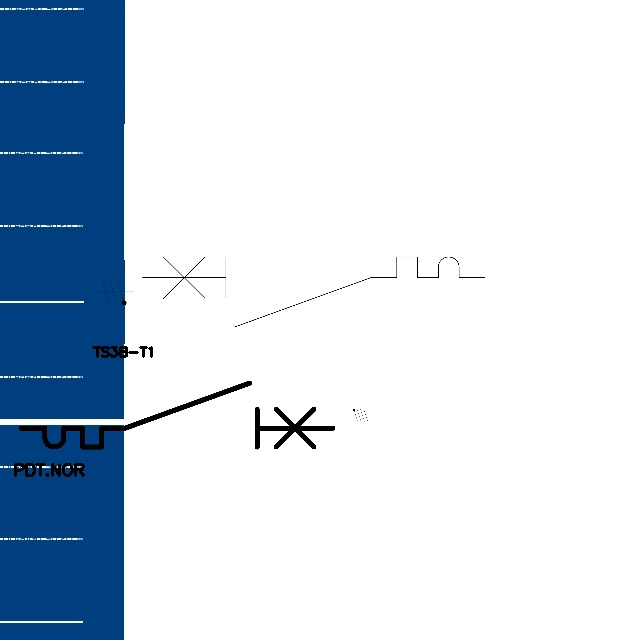interruptor_termomagnetico: (133, 248, 493, 336), (13, 375, 341, 455)
